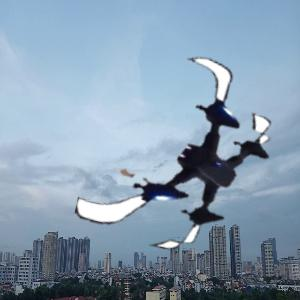drone: (90, 54, 295, 259)
